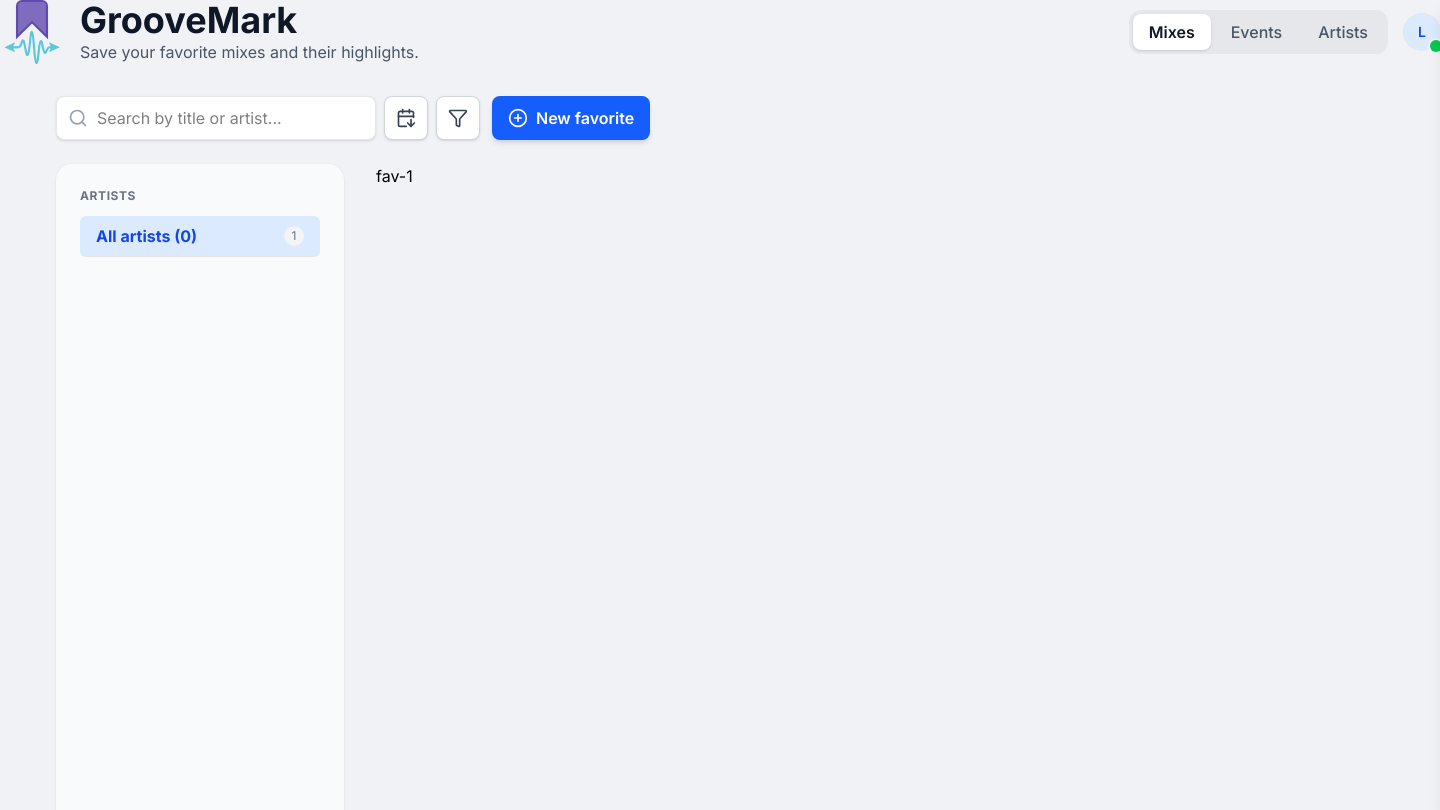
Scenario: MixesView › opens the edit modal from a mix card while the grid is mounted inside a route
Click the text with class "favorite-card".
click(394, 176)  # box [376,166,413,186]
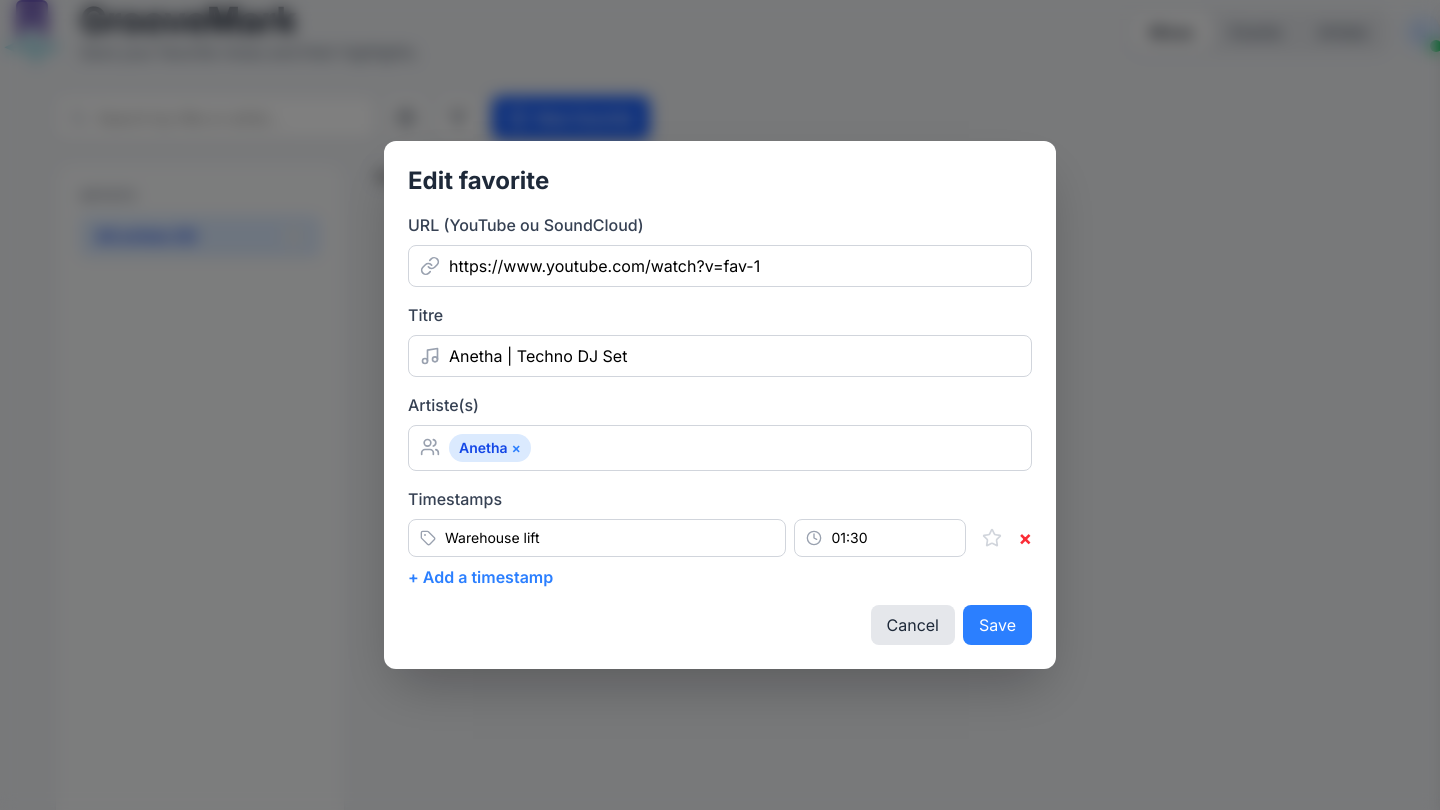
Now the text "Edit favorite" is shown, box [408,166,549,195]
Now the field with id "title" holds "Anetha | Techno DJ Set", box [408,335,1032,377]
